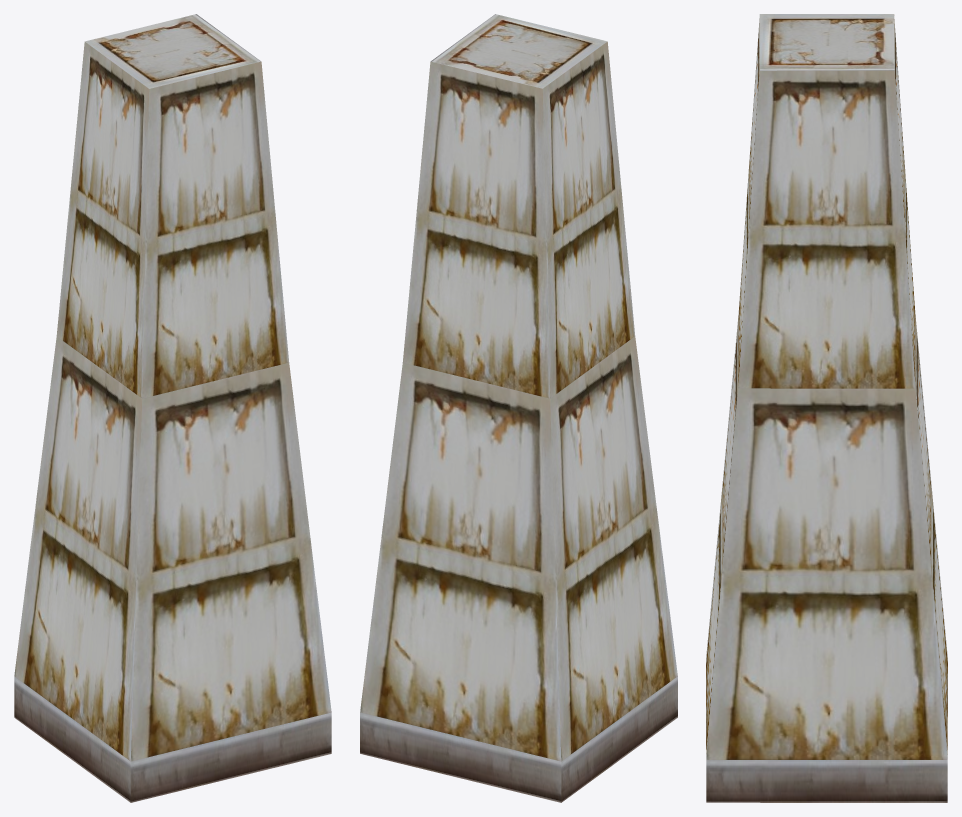
The model's file is d_heavypost_hdtex.glb.
3 views of the same model, side by side, from view 1: azimuth 30°, elevation 25°; view 2: azimuth 150°, elevation 25°; view 3: azimuth 270°, elevation 25° (orthographic). The views are drawn at different scales.
Visible parts, largest first — view 1: D_HeavyPost; view 2: D_HeavyPost; view 3: D_HeavyPost.
Part boxes in pixels (x1,y1,x2,y2): D_HeavyPost: (14, 14, 331, 802); D_HeavyPost: (360, 14, 677, 802); D_HeavyPost: (706, 14, 947, 802).
Bounding box in the file's own units: 5.5 × 17.86 × 5.51.
1 material, 1 textured.
